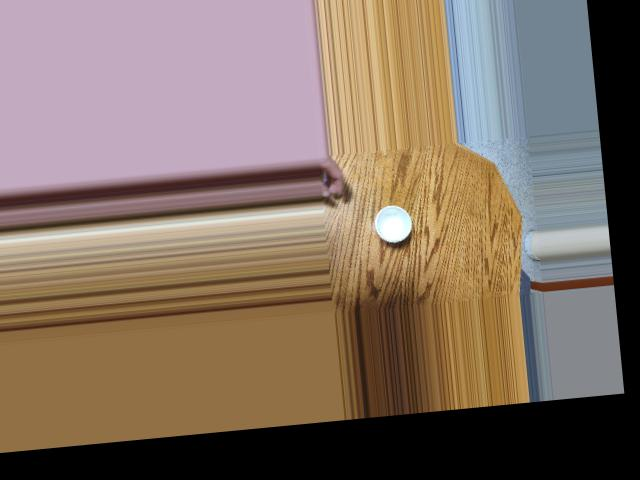cotage: (369, 200, 416, 244)
